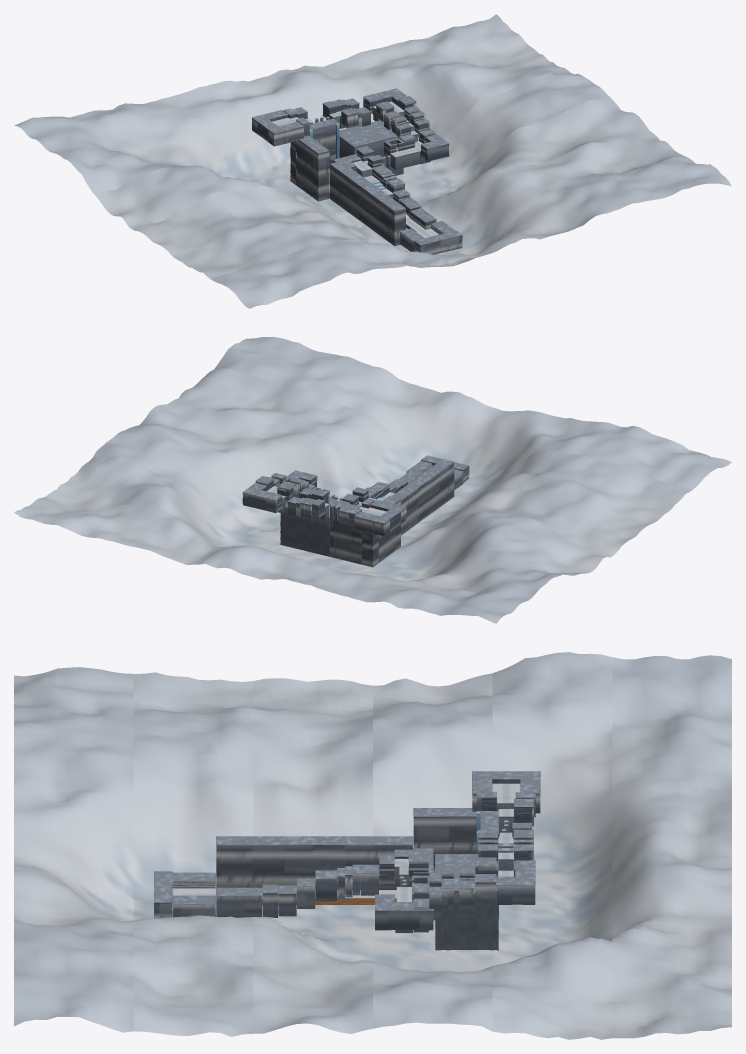
Rendered from frozen_falls_terrain.glb.
The picture shows the model from 3 angles, top to bottom: view 1: azimuth 30°, elevation 25°; view 2: azimuth 150°, elevation 25°; view 3: azimuth 270°, elevation 25°; orthographic projection. The views are drawn at different scales.
Visible parts, largest first — view 1: backdrop_5, backdrop_1, backdrop_0, backdrop_2, backdrop_3, backdrop_4, terrain_J, terrain_G, terrain_A, terrain_H, terrain_F, terrain_D (+4 smaller); view 2: backdrop_0, backdrop_1, backdrop_3, backdrop_2, backdrop_5, backdrop_4, terrain_J, terrain_H, terrain_G, terrain_I, terrain_A; view 3: backdrop_5, backdrop_0, backdrop_4, backdrop_1, backdrop_2, backdrop_3, terrain_J, terrain_G, terrain_H, terrain_A, terrain_B, terrain_C (+3 smaller).
Part boxes in pixels (box(x1,y1,x2,y2)): backdrop_5: box(14, 14, 535, 152); backdrop_1: box(171, 133, 691, 278); backdrop_0: box(210, 157, 731, 308); backdrop_2: box(132, 99, 652, 254); backdrop_3: box(93, 72, 613, 228); backdrop_4: box(54, 50, 573, 192); terrain_J: box(252, 110, 407, 246); terrain_G: box(376, 96, 449, 164); terrain_A: box(400, 221, 462, 254); terrain_H: box(330, 88, 406, 128); terrain_F: box(384, 137, 419, 169); terrain_D: box(357, 155, 396, 189); backdrop_0: box(212, 337, 731, 489); backdrop_1: box(171, 368, 692, 523); backdrop_3: box(92, 425, 613, 579); backdrop_2: box(132, 402, 652, 554); backdrop_5: box(14, 491, 534, 623); backdrop_4: box(54, 455, 573, 593); terrain_J: box(280, 459, 454, 567); terrain_H: box(242, 483, 329, 518); terrain_G: box(255, 470, 317, 501); terrain_I: box(312, 498, 374, 526); terrain_A: box(406, 455, 469, 489); backdrop_5: box(612, 655, 731, 1038); backdrop_0: box(14, 667, 133, 1032); backdrop_4: box(492, 652, 612, 1039); backdrop_1: box(133, 672, 253, 1036); backdrop_2: box(253, 678, 372, 1033); backdrop_3: box(373, 673, 492, 1031); terrain_J: box(216, 771, 540, 950); terrain_G: box(375, 857, 496, 932); terrain_H: box(478, 829, 535, 904); terrain_A: box(154, 871, 215, 918); terrain_B: box(216, 884, 278, 917); terrain_C: box(278, 870, 337, 916).
Bounding box in the file's own units: 546 × 70.64 × 462.
